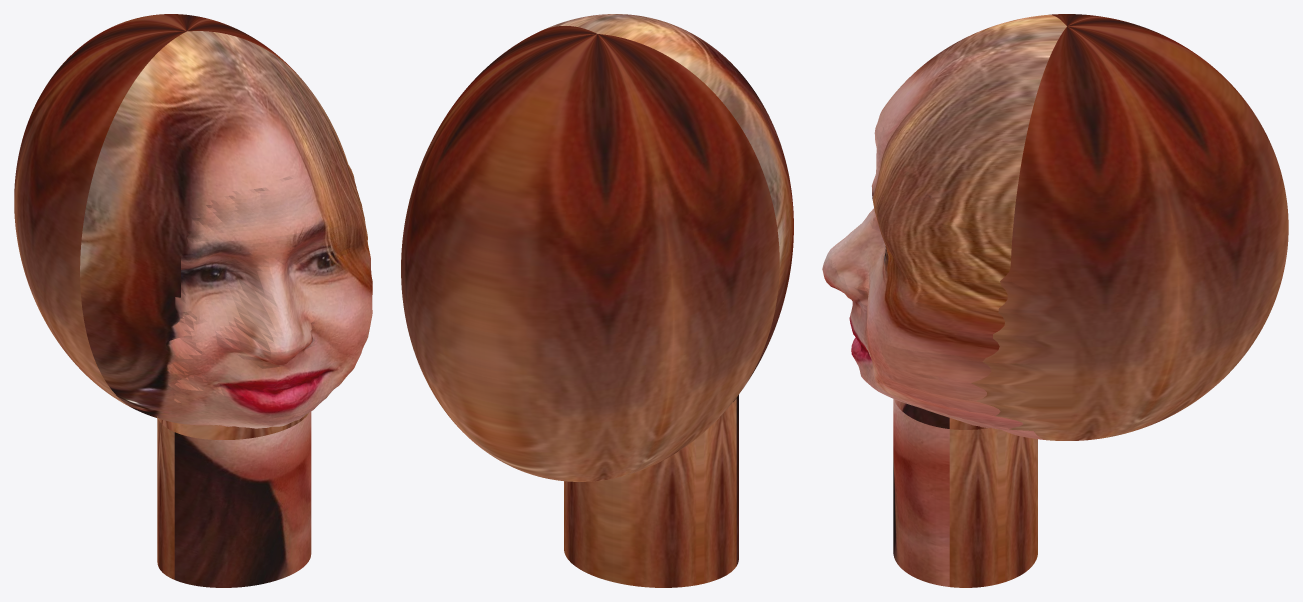
File: isla_fisher_face.glb
The picture shows the model from 3 angles, left to right: view 1: azimuth 30°, elevation 25°; view 2: azimuth 150°, elevation 25°; view 3: azimuth 270°, elevation 25°; orthographic projection. The views are drawn at different scales.
Parts seen in each view (by area): view 1: Head; view 2: Head; view 3: Head.
Part boxes in pixels (box(x1,y1,x2,y2)): Head: box(14, 14, 372, 587); Head: box(401, 14, 793, 587); Head: box(822, 14, 1288, 587).
Bounding box in the file's own units: 0.147 × 0.25 × 0.2011.
Materials: 1 (1 with a texture image).
